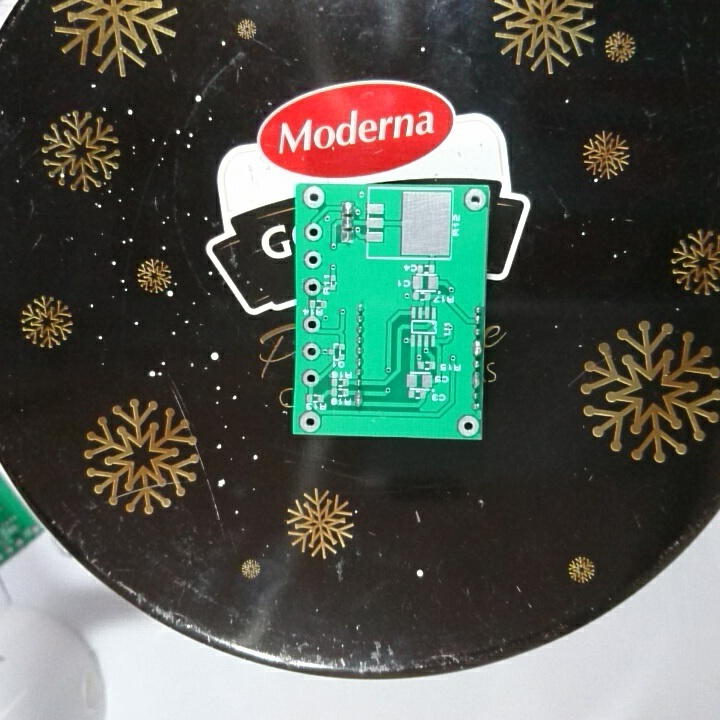F: (301, 184, 326, 211), (455, 412, 480, 439), (462, 187, 487, 214), (297, 408, 323, 433), (300, 366, 322, 390), (302, 221, 324, 244), (303, 248, 325, 271), (300, 314, 323, 336), (302, 275, 322, 299), (301, 341, 322, 363)
P: (470, 369, 483, 390), (471, 338, 483, 359), (352, 387, 363, 409)
